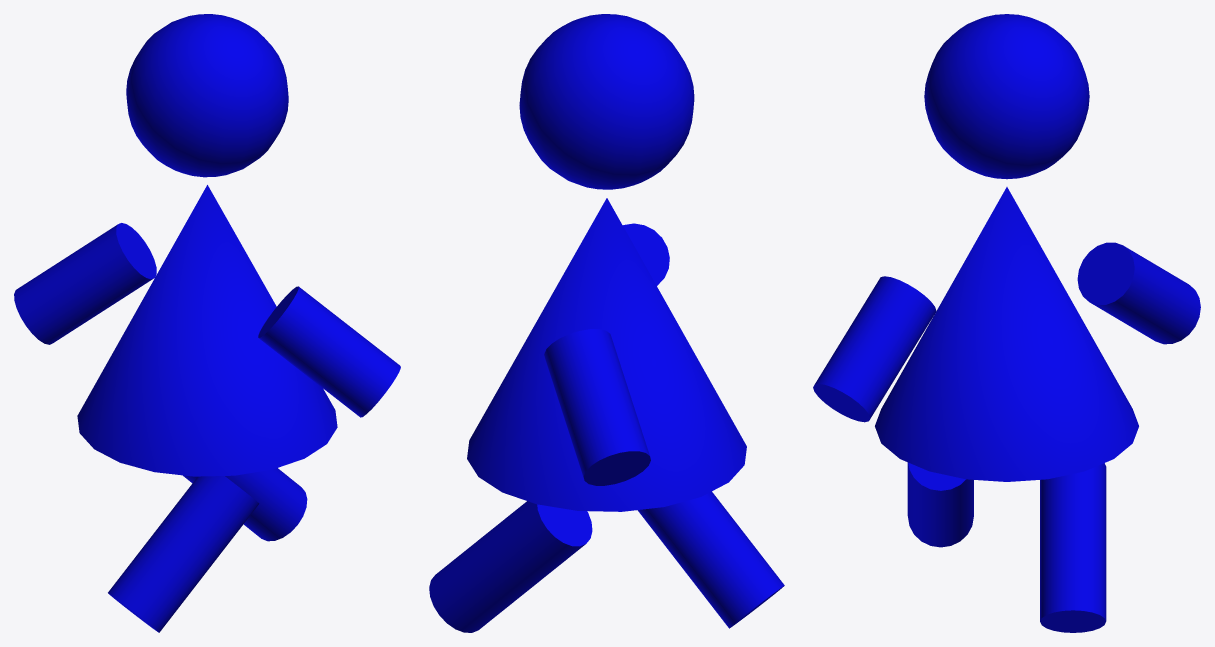
Rendered from leftLeg.fbx.
The picture shows the model from 3 angles, left to right: view 1: azimuth 30°, elevation 25°; view 2: azimuth 150°, elevation 25°; view 3: azimuth 270°, elevation 25°; orthographic projection. The views are drawn at different scales.
Parts seen in each view (by area): view 1: pCone1, pSphere1, pCylinder1, pCylinder4, pCylinder3, pCylinder2; view 2: pCone1, pSphere1, pCylinder2, pCylinder4, pCylinder1, pCylinder3; view 3: pCone1, pSphere1, pCylinder2, pCylinder3, pCylinder4, pCylinder1.
Boxes of the visible parts, <box> form: pCone1: <box>77,185,337,476</box>; pSphere1: <box>126,14,288,177</box>; pCylinder1: <box>108,476,259,632</box>; pCylinder4: <box>14,223,156,344</box>; pCylinder3: <box>258,286,400,417</box>; pCylinder2: <box>183,468,307,541</box>; pCone1: <box>467,198,746,511</box>; pSphere1: <box>519,14,694,189</box>; pCylinder2: <box>429,501,592,632</box>; pCylinder4: <box>544,329,650,485</box>; pCylinder1: <box>637,491,784,628</box>; pCylinder3: <box>623,223,669,285</box>; pCone1: <box>875,187,1138,481</box>; pSphere1: <box>924,14,1089,179</box>; pCylinder2: <box>1040,463,1106,632</box>; pCylinder3: <box>813,276,936,422</box>; pCylinder4: <box>1077,242,1200,344</box>; pCylinder1: <box>907,462,973,547</box>.
Bounding box in the file's own units: 1.79 × 3.79 × 2.35.
